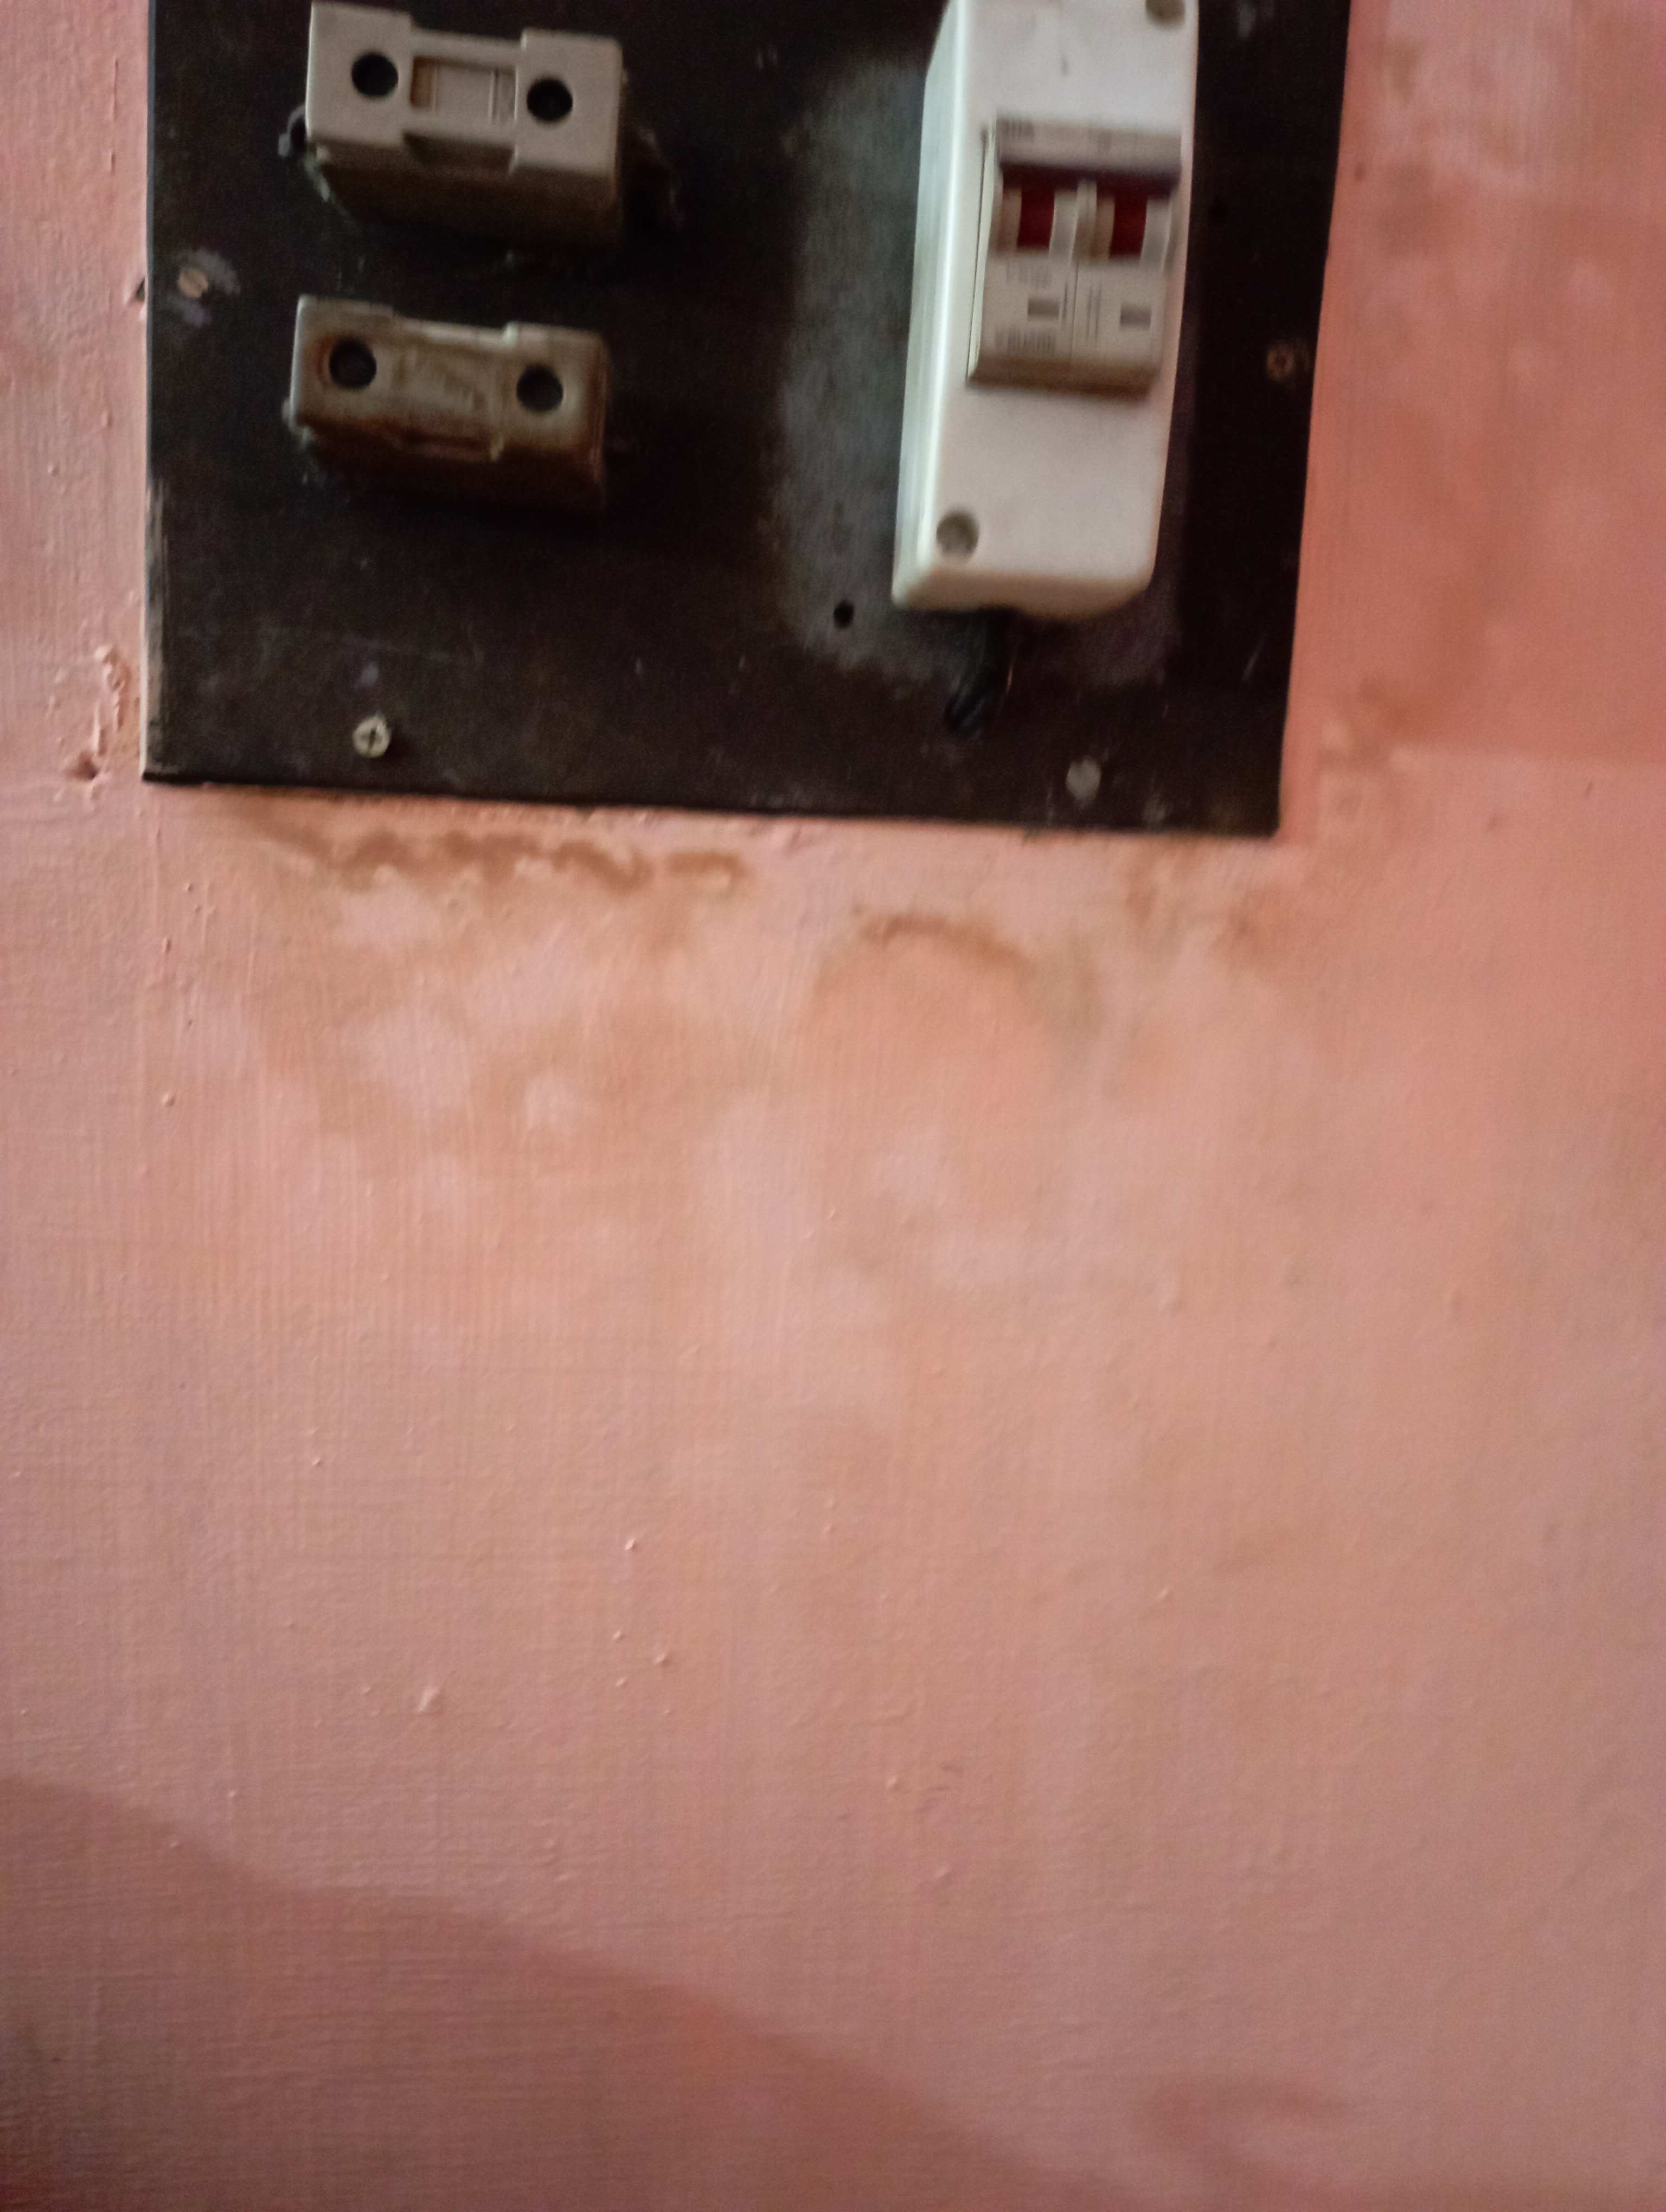ciruit_breaker: (882, 0, 1193, 621)
fuse: (264, 0, 670, 229), (250, 278, 630, 493)
